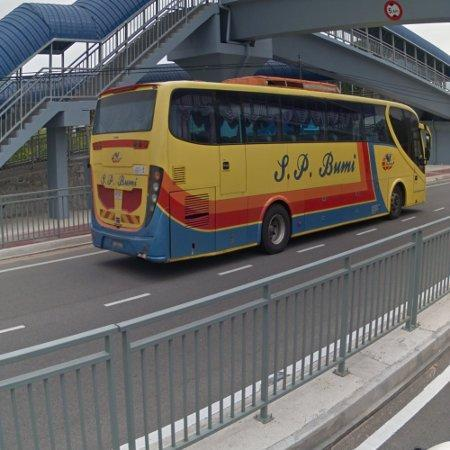buses: (91, 76, 427, 261)
